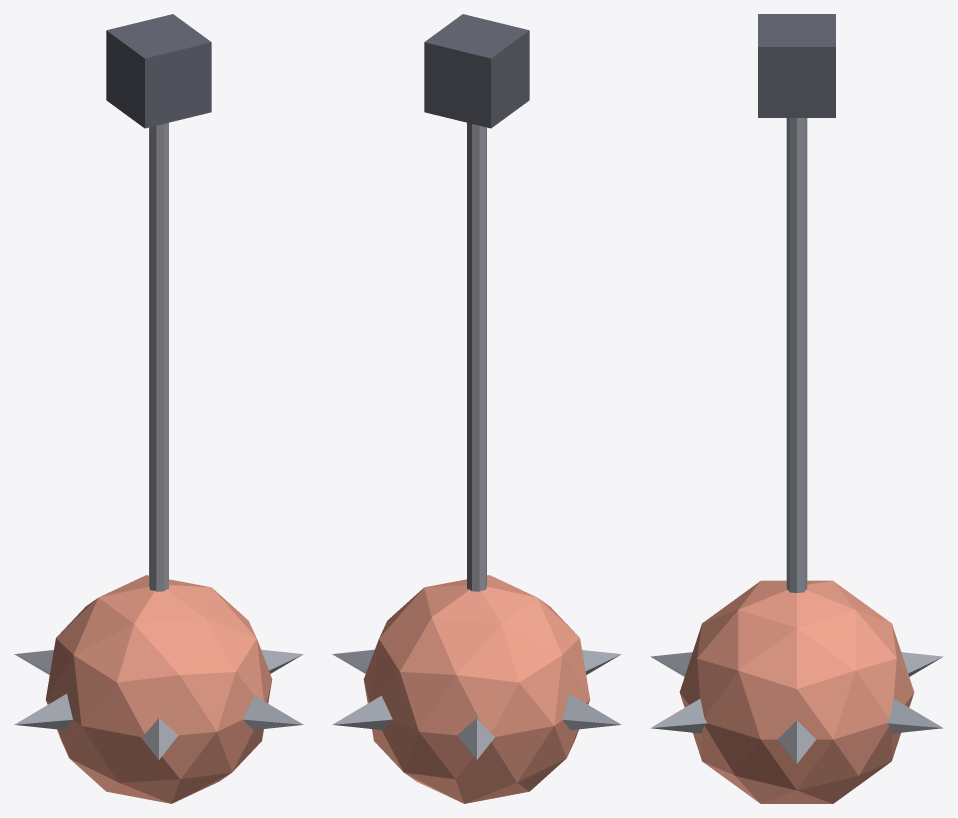
File: Trap_Pendulo.fbx
3 views of the same model, side by side, from view 1: azimuth 30°, elevation 25°; view 2: azimuth 150°, elevation 25°; view 3: azimuth 270°, elevation 25° (orthographic).
Visible parts, largest first — view 1: Trap_Pendulo; view 2: Trap_Pendulo; view 3: Trap_Pendulo.
Boxes of the visible parts, bbox=[...] form: Trap_Pendulo: bbox=[14, 14, 303, 803]; Trap_Pendulo: bbox=[332, 14, 621, 803]; Trap_Pendulo: bbox=[650, 14, 943, 803].
Bounding box in the file's own units: 1.3 × 3.25 × 1.13.
